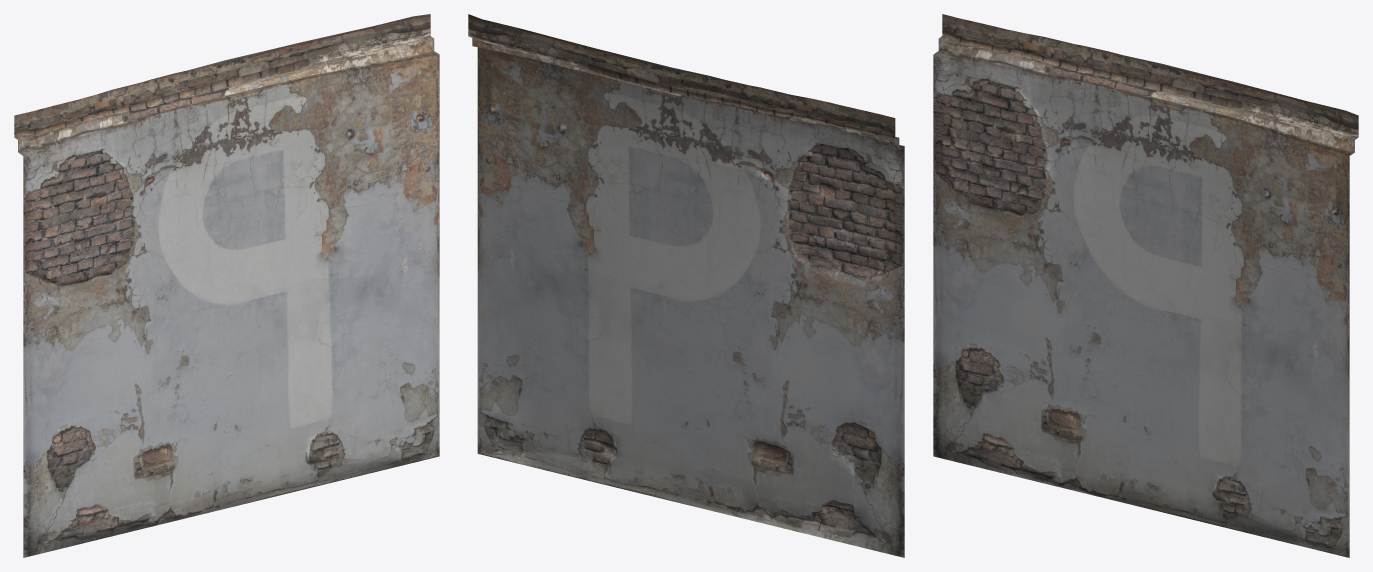
Rendered from sm_Wal_04_01.fbx.
3 views of the same model, side by side, from view 1: azimuth 30°, elevation 25°; view 2: azimuth 150°, elevation 25°; view 3: azimuth 330°, elevation 25° (orthographic). The views are drawn at different scales.
Parts seen in each view (by area): view 1: sm_Wal_04_01_LOD0; view 2: sm_Wal_04_01_LOD0; view 3: sm_Wal_04_01_LOD0.
Part boxes in pixels (x1,y1,x2,y2): sm_Wal_04_01_LOD0: (14,14,439,557); sm_Wal_04_01_LOD0: (468,14,904,557); sm_Wal_04_01_LOD0: (933,14,1358,557).
Bounding box in the file's own units: 25.71 × 350 × 350.
